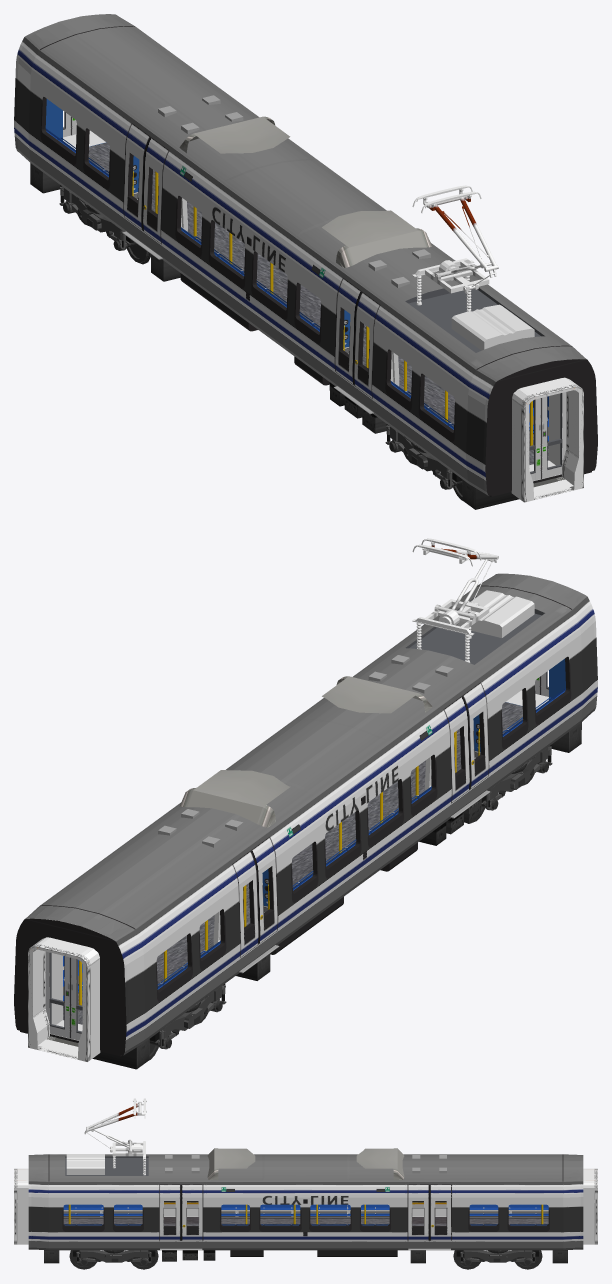
Rendered from module_city_panto_6m.obj.
3 renders of one model, top to bottom at view 1: azimuth 30°, elevation 25°; view 2: azimuth 150°, elevation 25°; view 3: azimuth 270°, elevation 25°, orthographic. The views are drawn at different scales.
Parts seen in each view (by area): view 1: m_side, m_jibung, m_aircon, m_mak, m_backout, m_floor, m_habu, m_panto6m, m_dt71, m_door_RB, m_door_RF, m_interiors (+4 smaller); view 2: m_side, m_jibung, m_aircon, m_mak, m_backout, m_floor, m_habu, m_door_RF, m_door_RB, m_panto6m, m_dt71, m_interiors (+4 smaller); view 3: m_side, m_jibung, m_oscarchair, m_aircon, m_dt71, m_floor, m_mak, m_habu, m_door_LB, m_door_LF, m_panto6m, m_heater (+4 smaller).
Part boxes in pixels (bbox=[...]): m_side: bbox=[14, 16, 597, 495]; m_jibung: bbox=[25, 14, 586, 381]; m_aircon: bbox=[158, 95, 534, 350]; m_mak: bbox=[63, 126, 583, 502]; m_backout: bbox=[489, 359, 593, 494]; m_floor: bbox=[88, 142, 548, 464]; m_habu: bbox=[30, 163, 591, 509]; m_panto6m: bbox=[412, 185, 498, 311]; m_dt71: bbox=[59, 185, 462, 500]; m_door_RB: bbox=[124, 139, 356, 397]; m_door_RF: bbox=[142, 152, 374, 410]; m_interiors: bbox=[63, 112, 566, 480]; m_side: bbox=[14, 577, 597, 1055]; m_jibung: bbox=[25, 573, 586, 941]; m_aircon: bbox=[158, 590, 534, 847]; m_mak: bbox=[28, 686, 548, 1061]; m_backout: bbox=[18, 918, 122, 1054]; m_floor: bbox=[63, 702, 522, 1024]; m_habu: bbox=[20, 722, 581, 1069]; m_door_RF: bbox=[256, 698, 488, 956]; m_door_RB: bbox=[238, 711, 470, 969]; m_panto6m: bbox=[412, 538, 498, 662]; m_dt71: bbox=[149, 745, 552, 1060]; m_interiors: bbox=[45, 671, 548, 1040]; m_side: bbox=[28, 1154, 583, 1250]; m_jibung: bbox=[28, 1154, 583, 1181]; m_oscarchair: bbox=[63, 1204, 548, 1225]; m_aircon: bbox=[66, 1148, 446, 1180]; m_dt71: bbox=[69, 1250, 542, 1269]; m_floor: bbox=[63, 1217, 548, 1225]; m_mak: bbox=[14, 1168, 597, 1244]; m_habu: bbox=[44, 1250, 567, 1263]; m_door_LB: bbox=[181, 1194, 450, 1248]; m_door_LF: bbox=[159, 1194, 429, 1248]; m_panto6m: bbox=[84, 1098, 146, 1175]; m_heater: bbox=[63, 1208, 548, 1218].
Size of the model in its own units: 2.88 by 6.06 by 20.53.
Materials: 27 (27 with a texture image).
